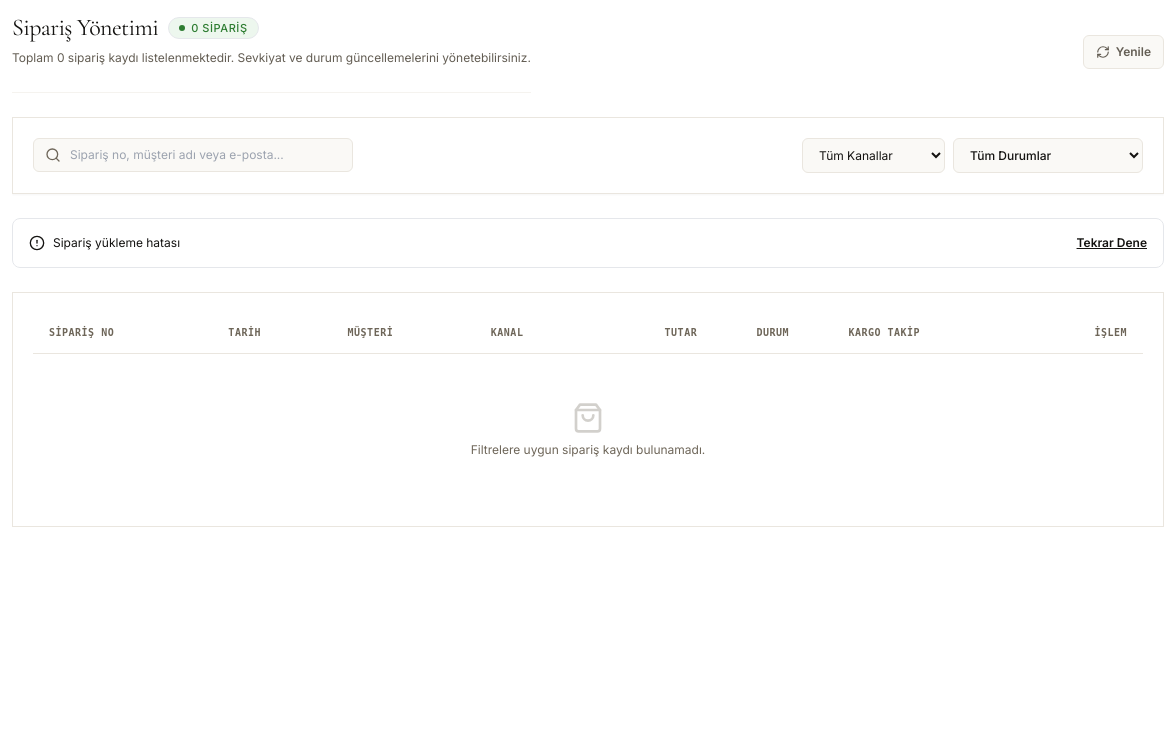
it: AdminOrdersPage Component (Phase 3.7) › renders error state and retries fetching
The width and height of the screenshot is (1176, 732).
Check: the text "Sipariş yükleme hatası" is shown, box [53,234,180,250]
Click the button "Tekrar Dene": (1112, 242) [1076,234,1147,250]
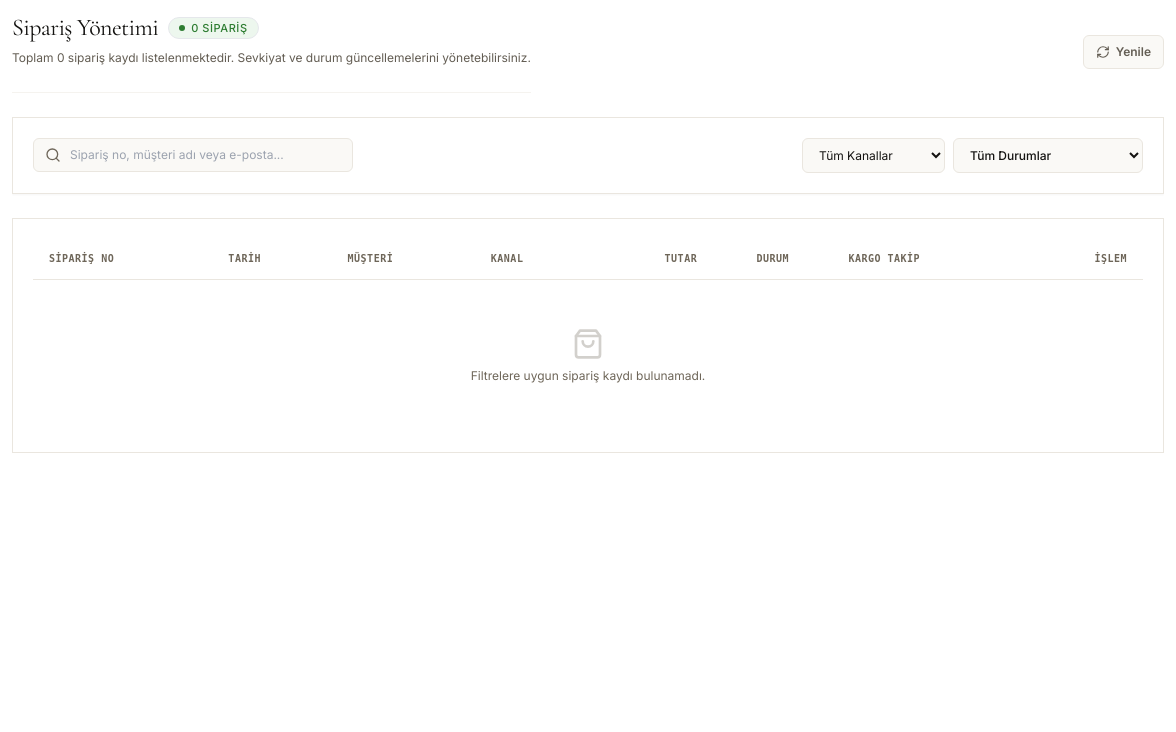
Check: the text "Sipariş yükleme hatası" is gone
